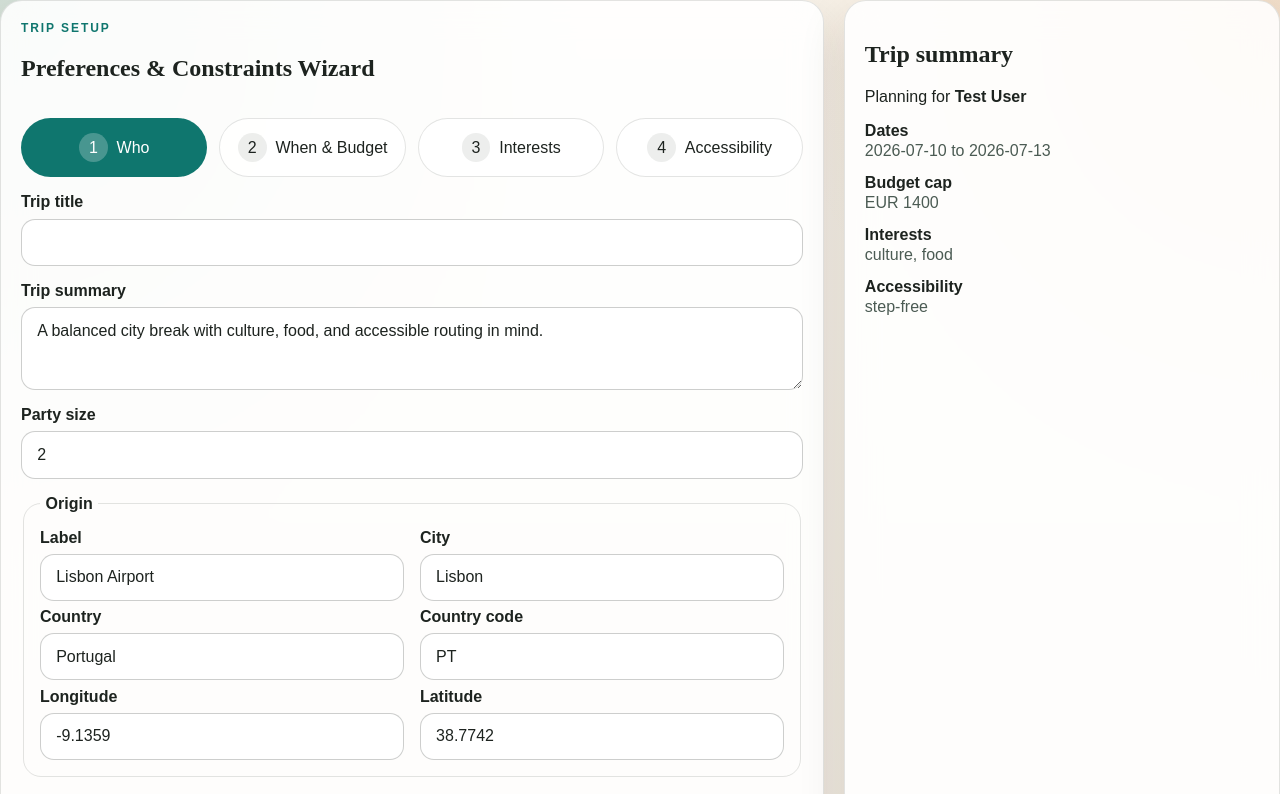
Test: PlanTripPage wizard – accessibility (axe) › step 1 (When & Budget) has no axe violations
Click the button "2 When & Budget". click: (313, 148)
box: top-left (220, 118), bottom-right (406, 177)
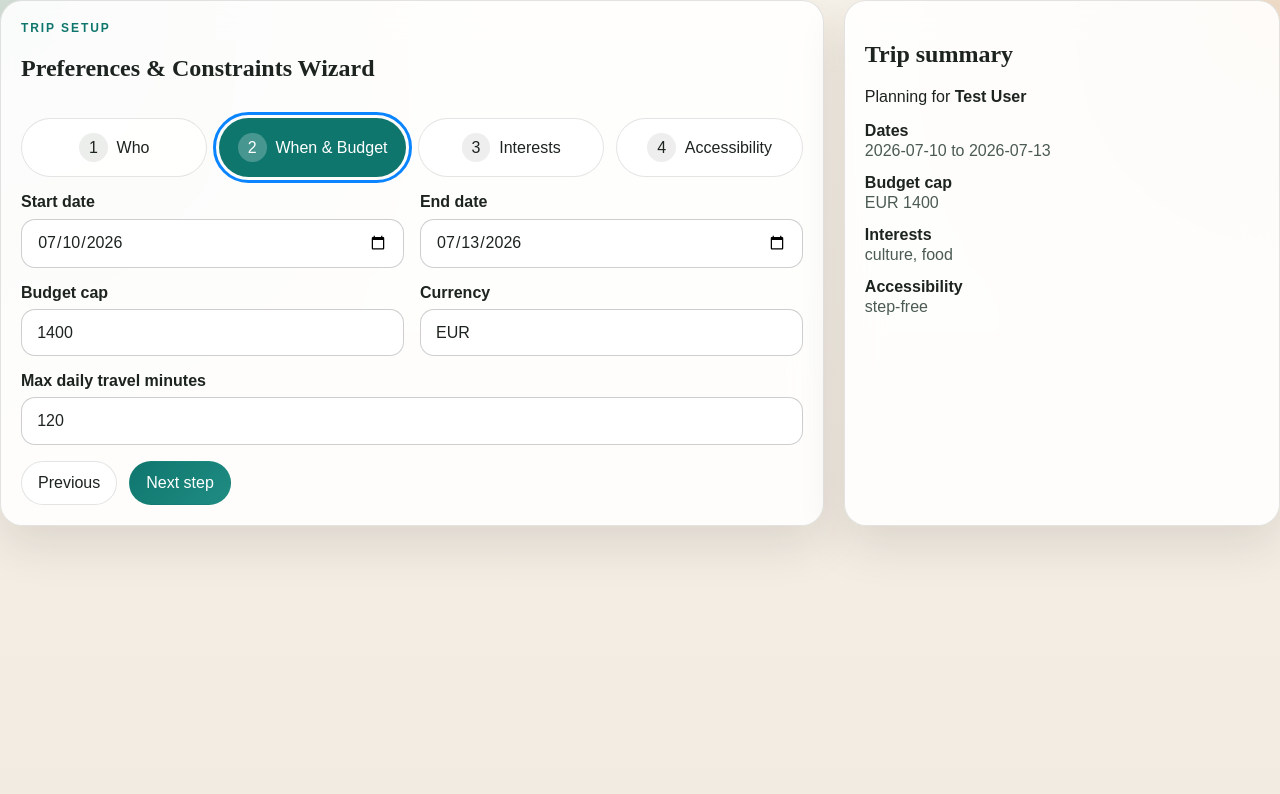
Now the date field labelled "Start date" is shown, box top-left (21, 219), bottom-right (404, 268)
